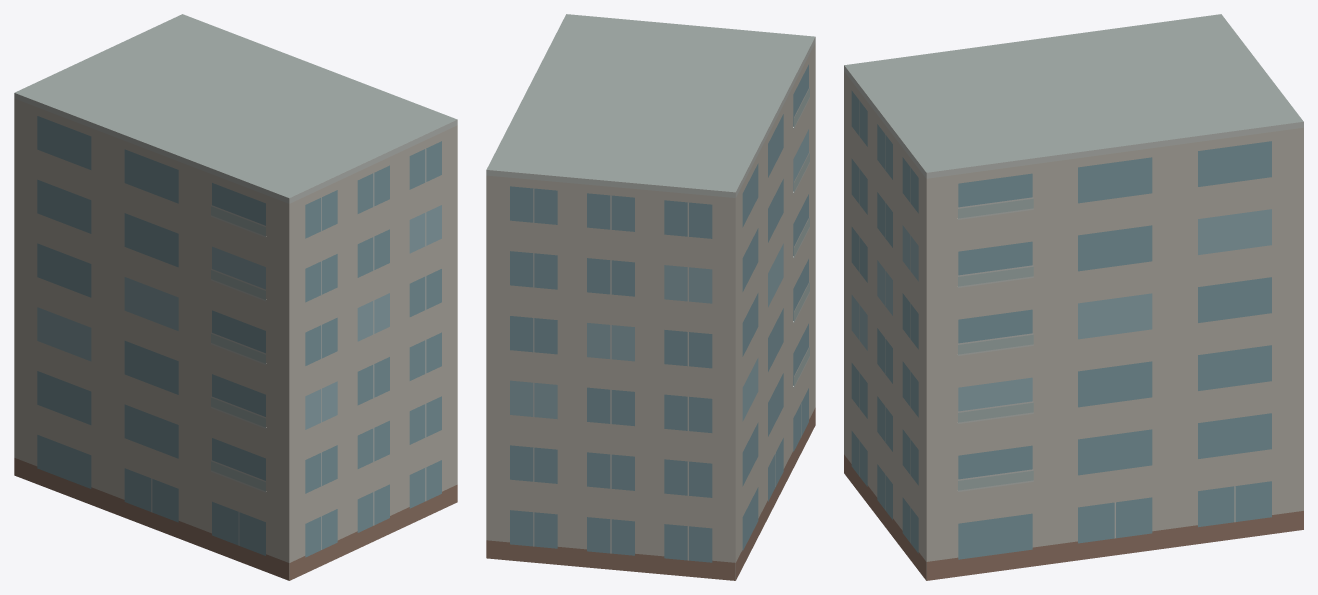
The model's file is survey-upis-32916352.glb.
3 renders of one model, left to right at view 1: azimuth 30°, elevation 25°; view 2: azimuth 150°, elevation 25°; view 3: azimuth 270°, elevation 25°, orthographic. The views are drawn at different scales.
Parts seen in each view (by area): view 1: survey-upis-32916352.tmp; view 2: survey-upis-32916352.tmp; view 3: survey-upis-32916352.tmp.
Part boxes in pixels (x1=…): survey-upis-32916352.tmp: x1=14, y1=14, x2=457, y2=580; survey-upis-32916352.tmp: x1=486, y1=14, x2=815, y2=580; survey-upis-32916352.tmp: x1=844, y1=14, x2=1303, y2=580.
Bounding box in the file's own units: 13.86 × 16.6 × 16.96.
